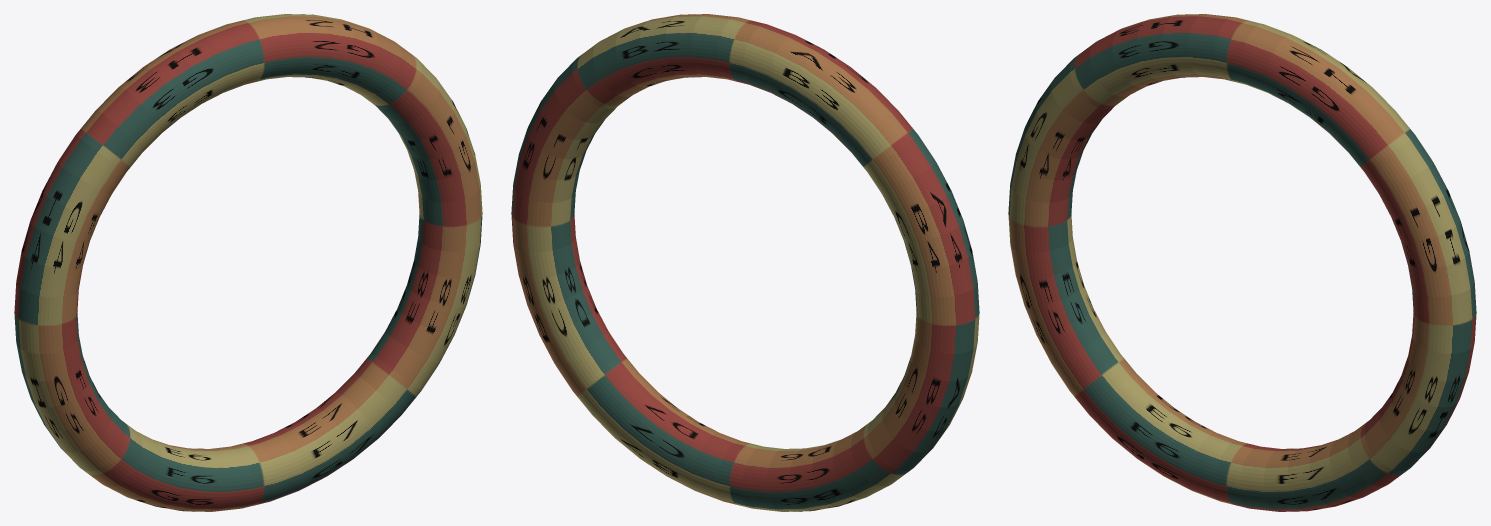
Rendered from texture_torus_R28_r7.glb.
3 renders of one model, left to right at view 1: azimuth 30°, elevation 25°; view 2: azimuth 150°, elevation 25°; view 3: azimuth 330°, elevation 25°, orthographic.
Parts seen in each view (by area): view 1: world; view 2: world; view 3: world.
Part boxes in pixels (x1=…): world: x1=14, y1=14, x2=482, y2=511; world: x1=511, y1=14, x2=979, y2=511; world: x1=1008, y1=14, x2=1476, y2=511.
Size of the model in its own units: 32.53 by 32.47 by 3.86.
1 material, 1 textured.
